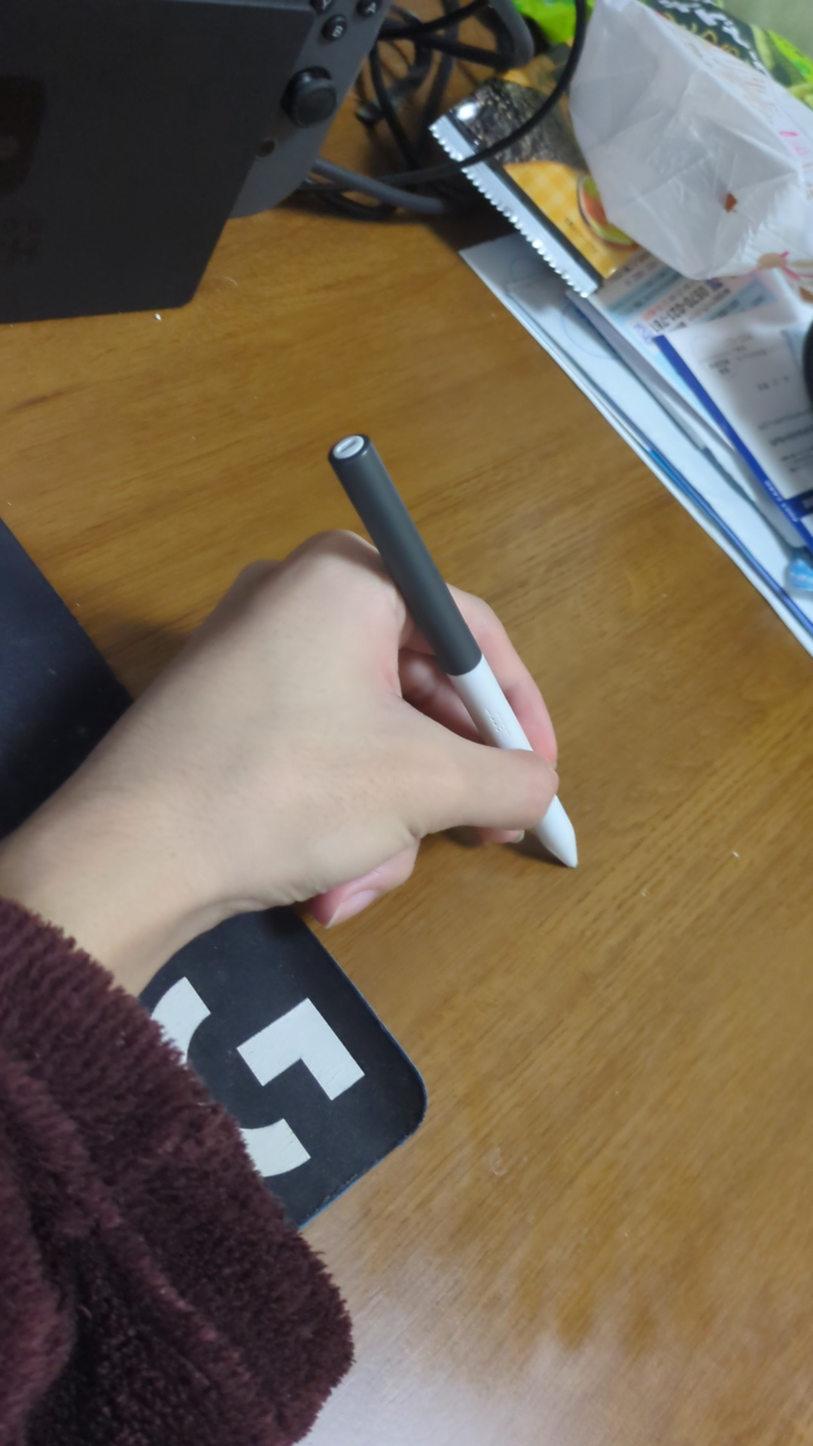pen: (327, 430, 585, 876)
tip: (568, 856, 583, 880)
